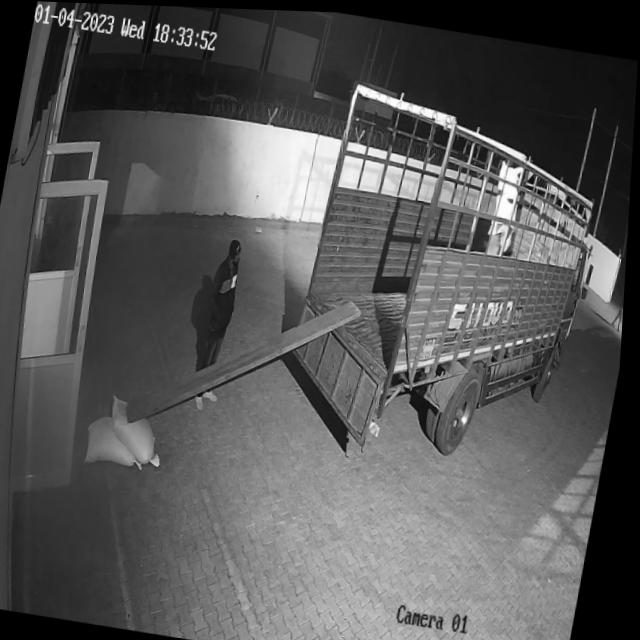sack: (105, 391, 177, 466), (86, 411, 157, 469), (489, 156, 528, 229)
